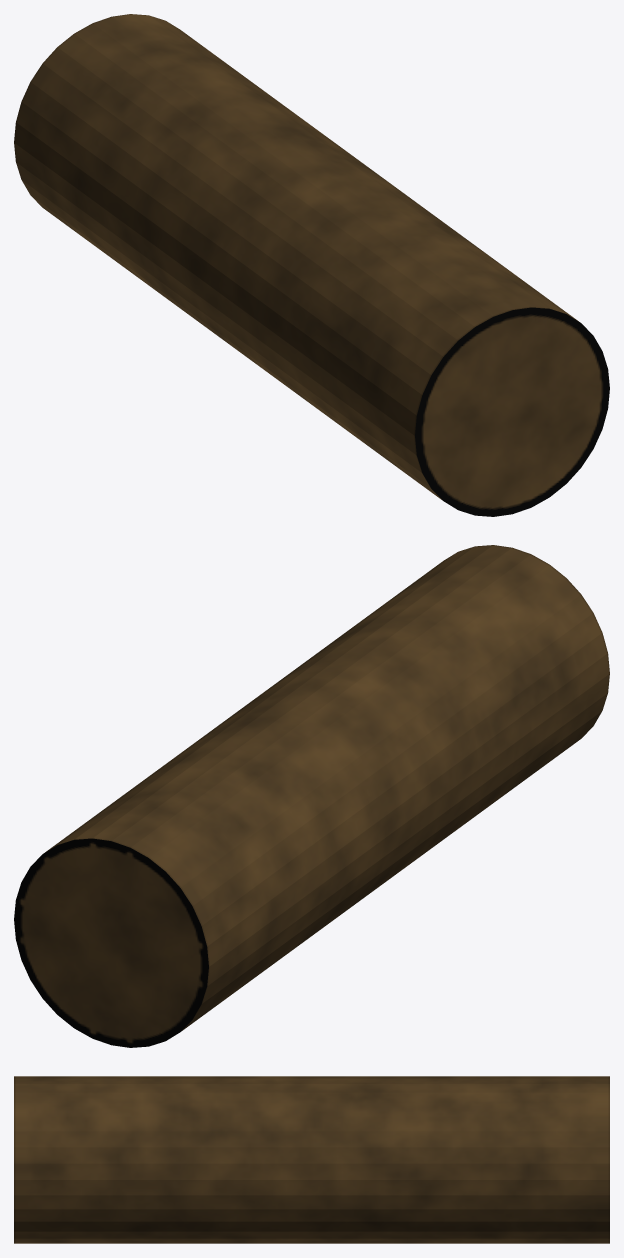
The model's file is Hanger _ transverse load pin__n2.glb.
3 views of the same model, one above another, from view 1: azimuth 30°, elevation 25°; view 2: azimuth 150°, elevation 25°; view 3: azimuth 270°, elevation 25° (orthographic). The views are drawn at different scales.
Parts seen in each view (by area): view 1: Hanger | transverse load pin; view 2: Hanger | transverse load pin; view 3: Hanger | transverse load pin.
Part boxes in pixels (x1=…): Hanger | transverse load pin: x1=14, y1=14, x2=609, y2=516; Hanger | transverse load pin: x1=14, y1=545, x2=609, y2=1047; Hanger | transverse load pin: x1=14, y1=1076, x2=609, y2=1243.
Size of the model in its own units: 0.066 by 0.066 by 0.235.
1 material, 1 textured.
